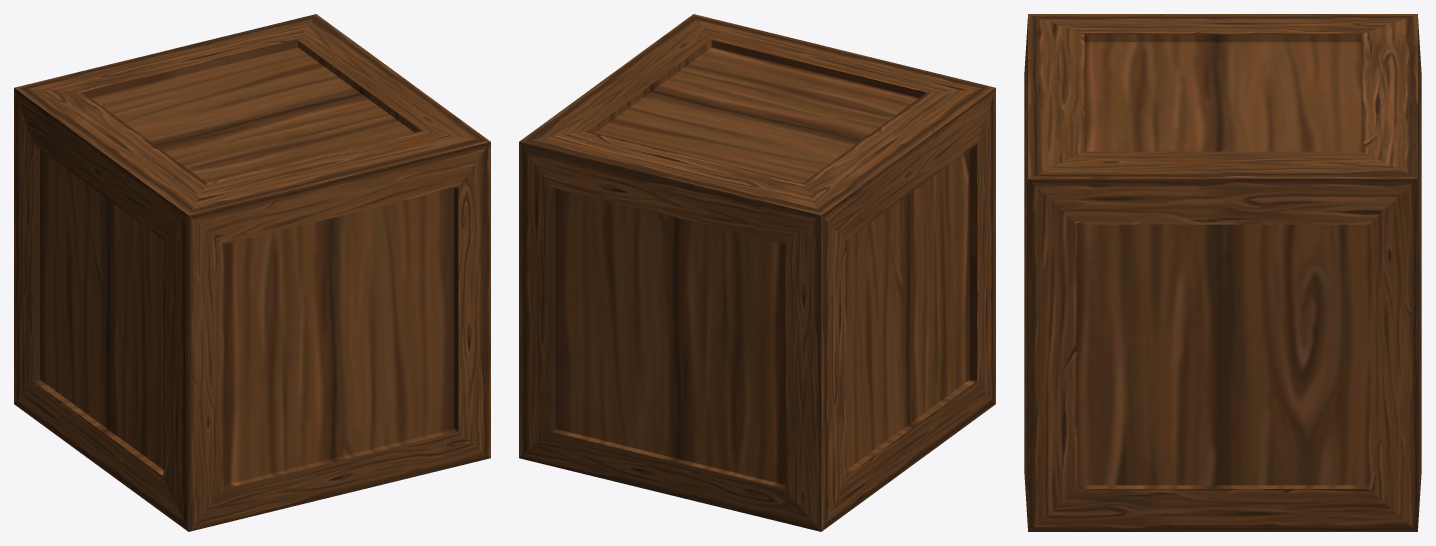
Rendered from WoodenBox.fbx.
The picture shows the model from 3 angles, left to right: view 1: azimuth 30°, elevation 25°; view 2: azimuth 150°, elevation 25°; view 3: azimuth 270°, elevation 25°; orthographic projection. The views are drawn at different scales.
Visible parts, largest first — view 1: WoodenBox.001; view 2: WoodenBox.001; view 3: WoodenBox.001.
Boxes of the visible parts, left/top/right/bottom form: WoodenBox.001: left=14, top=14, right=490, bottom=531; WoodenBox.001: left=519, top=14, right=995, bottom=531; WoodenBox.001: left=1024, top=14, right=1421, bottom=531.
Bounding box in the file's own units: 0.5356 × 0.5356 × 0.5356.
Materials: 1 (1 with a texture image).
